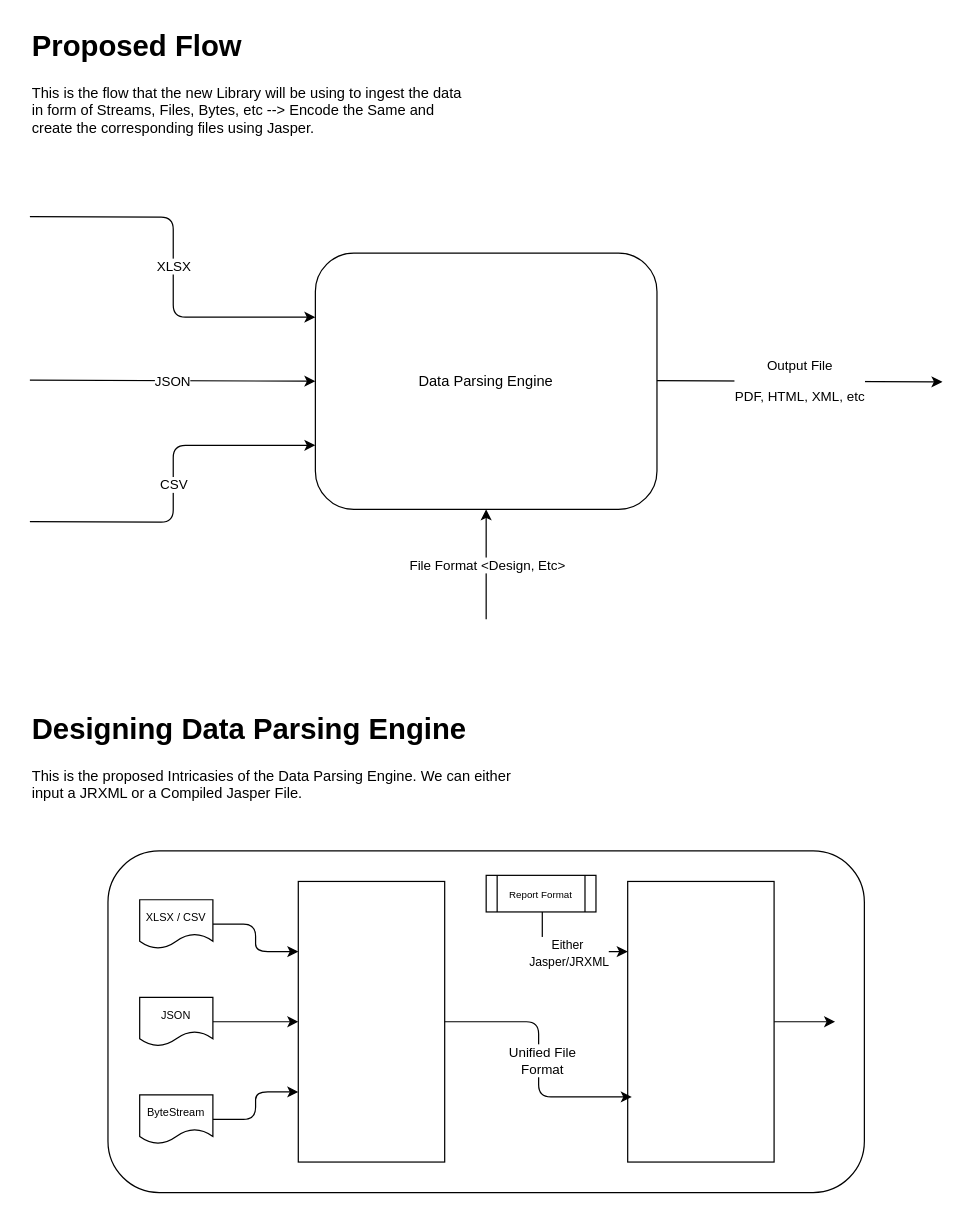
The diagram is 974 pixels wide and 1214 high, and some of its shapes have lost their labels. The centre of each missing label's shape, as x and y in pixels:
Document Creator Service: (x=700, y=1021)
Format Unifier Service: (x=371, y=1021)
